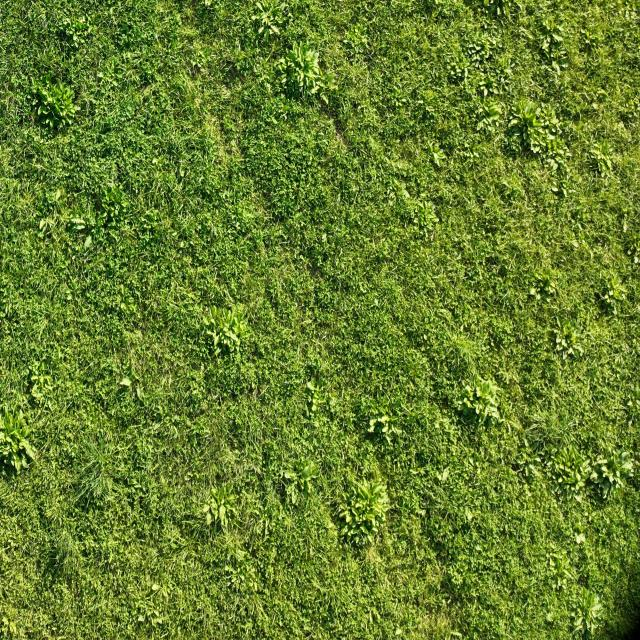rumex: (455, 30, 513, 142), (334, 470, 398, 566), (266, 38, 343, 110), (449, 364, 515, 436), (34, 190, 105, 251), (506, 96, 572, 160), (200, 292, 258, 361), (542, 434, 596, 508), (36, 72, 85, 138), (27, 339, 67, 414), (591, 443, 640, 504), (362, 398, 414, 455), (1, 400, 38, 476), (531, 24, 573, 90), (281, 455, 325, 514), (548, 318, 594, 372), (409, 194, 456, 246), (95, 173, 138, 229), (229, 547, 268, 608), (56, 4, 106, 50), (542, 159, 585, 209), (594, 268, 632, 320), (298, 375, 330, 435), (203, 485, 243, 531), (250, 0, 298, 37), (590, 139, 624, 189), (529, 264, 564, 308), (423, 128, 449, 171)
